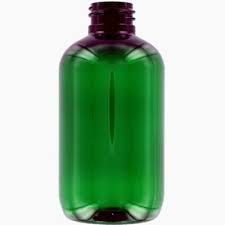Plastic bottle: (48, 0, 172, 225)
